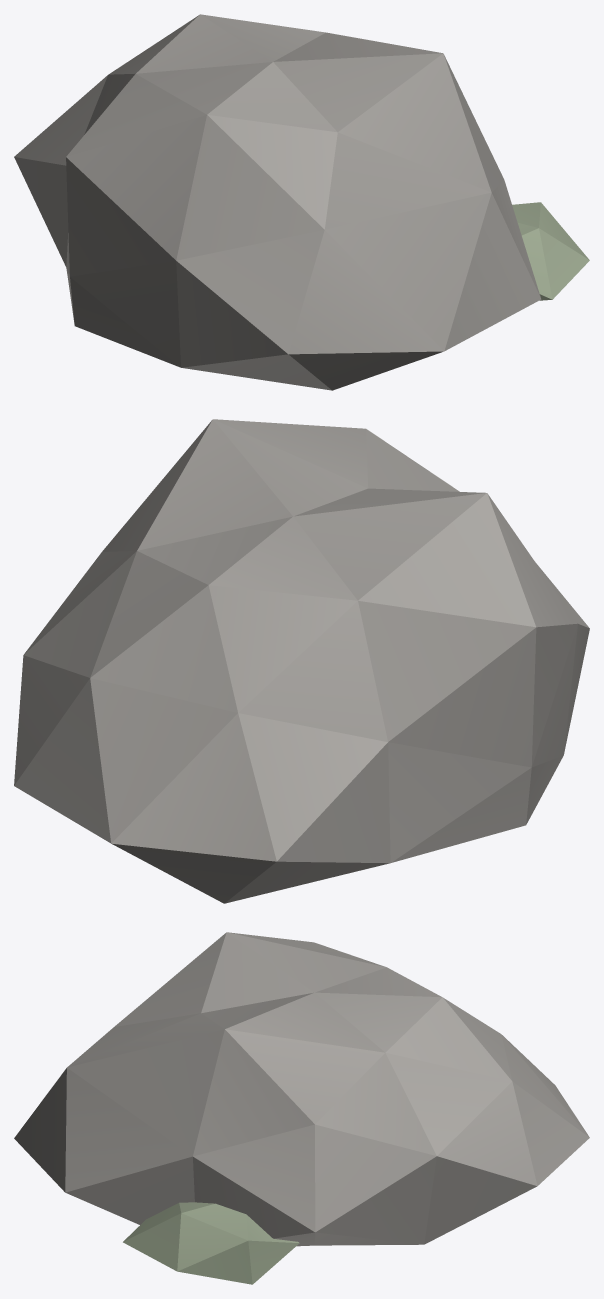
The picture shows the model from 3 angles, top to bottom: view 1: azimuth 30°, elevation 25°; view 2: azimuth 150°, elevation 25°; view 3: azimuth 270°, elevation 25°; orthographic projection. The views are drawn at different scales.
Visible parts, largest first — view 1: nature.boulder_large; view 2: nature.boulder_large; view 3: nature.boulder_large.
Part boxes in pixels (<box>): nature.boulder_large: <box>14,14,589,390</box>; nature.boulder_large: <box>14,419,589,903</box>; nature.boulder_large: <box>14,932,589,1284</box>.
Size of the model in its own units: 6.24 by 3.1 by 7.9.
